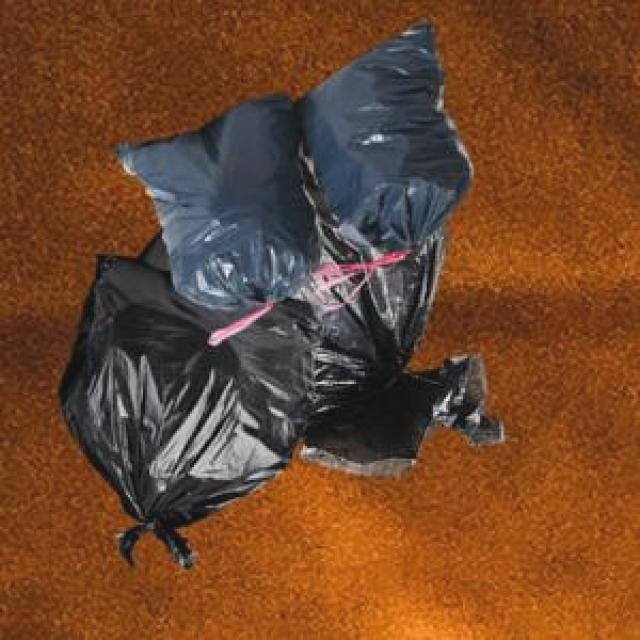Trashbag: (55, 277, 322, 527), (146, 96, 316, 310), (309, 41, 463, 254)
